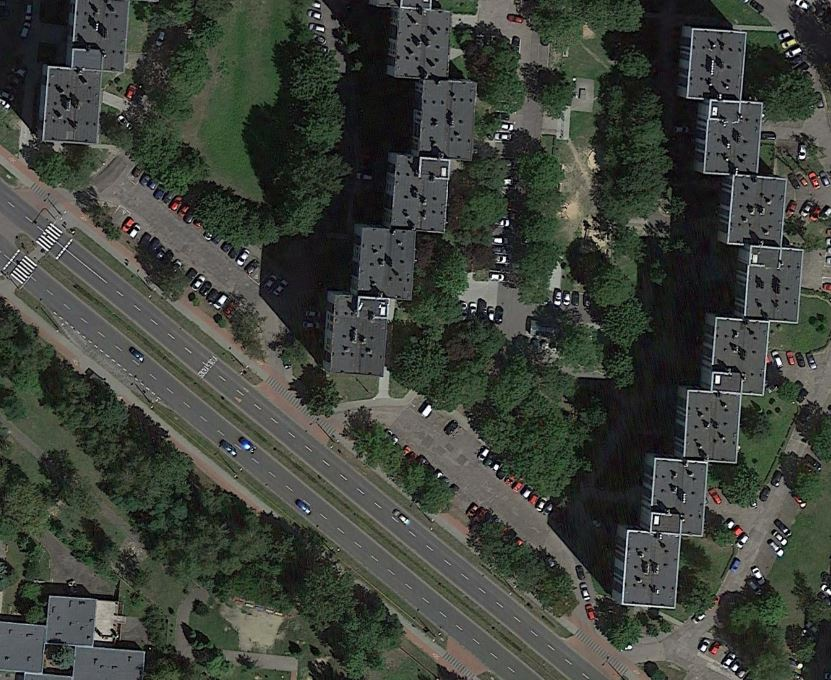block of flats: (607, 14, 814, 614), (320, 1, 481, 382), (32, 1, 152, 152), (1, 579, 159, 679)
